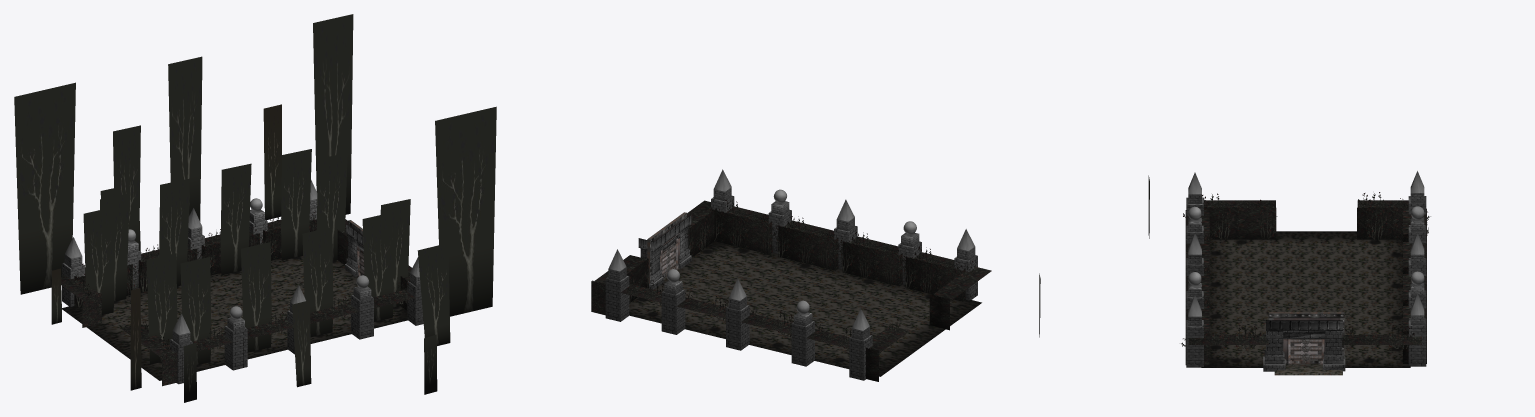
Rendered from room_32.glb.
3 renders of one model, left to right at view 1: azimuth 30°, elevation 25°; view 2: azimuth 150°, elevation 25°; view 3: azimuth 270°, elevation 25°, orthographic. The views are drawn at different scales.
Visible parts, largest first — view 1: pPlane350__billboard (×6), pPlane277__billboard, pPlane274__billboard, Ground, pPlane269__billboard, pPlane348__billboard (×2), pPlane346__billboard (×2), pPlane53__billboard, pPlane79__billboard (×2), pPlane3__billboard (×3), pPlane55__billboard, pPlane46__billboard (+11 smaller); view 2: Ground, polySurface25 (×4), polySurface34, polySurface36, polySurface26 (×3), polySurface38, pCube151 (×2), pCube136 (×2), C_4, pCube147, pCube124, pocket (+5 smaller); view 3: Ground, polySurface25 (×2), polySurface26 (×3), pocket, rooftower_3, pCube131, pCube151, pCube124, rooftower_4, SeemPatch.
Boxes of the visible parts, x1,y1,x2,y2 form: pPlane350__billboard (×6): [83, 149, 410, 364]; pPlane277__billboard: [14, 82, 75, 294]; pPlane274__billboard: [435, 106, 496, 316]; Ground: [62, 256, 407, 380]; pPlane269__billboard: [313, 14, 353, 214]; pPlane348__billboard (×2): [220, 163, 271, 352]; pPlane346__billboard (×2): [159, 178, 333, 337]; pPlane53__billboard: [168, 56, 202, 221]; pPlane79__billboard (×2): [100, 193, 393, 321]; pPlane3__billboard (×3): [51, 104, 281, 390]; pPlane55__billboard: [417, 243, 450, 345]; pPlane46__billboard: [113, 125, 140, 250]; Ground: [628, 241, 981, 376]; polySurface25 (×4): [591, 208, 949, 330]; polySurface34: [778, 225, 838, 270]; polySurface36: [842, 241, 902, 286]; polySurface26 (×3): [803, 267, 991, 353]; polySurface38: [905, 256, 965, 301]; pCube151 (×2): [605, 255, 977, 321]; pCube136 (×2): [768, 209, 814, 366]; C_4: [661, 289, 685, 334]; pCube147: [726, 305, 749, 350]; pCube124: [849, 335, 872, 380]; pocket: [647, 212, 686, 283]; Ground: [1201, 231, 1410, 367]; polySurface25 (×2): [1204, 207, 1408, 239]; polySurface26 (×3): [1188, 200, 1421, 344]; pocket: [1268, 312, 1344, 364]; rooftower_3: [1283, 330, 1343, 363]; pCube131: [1266, 320, 1342, 330]; pCube151: [1408, 318, 1426, 366]; pCube124: [1186, 320, 1203, 367]; rooftower_4: [1264, 330, 1284, 364]; SeemPatch: [1274, 364, 1342, 375].
Bounding box in the file's own units: 189 × 101 × 207.
Materials: 18 (17 with a texture image).
